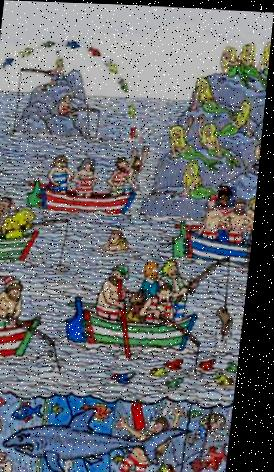waldo: (221, 184, 241, 207)
